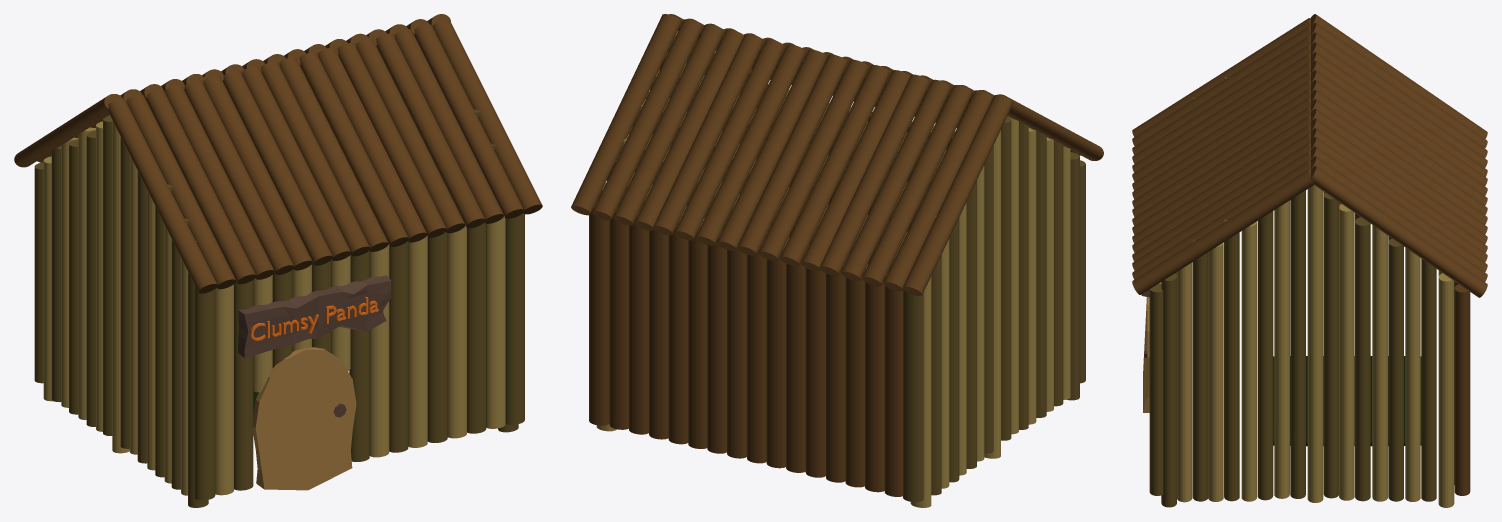
Rendered from house-only.fbx.
3 renders of one model, left to right at view 1: azimuth 30°, elevation 25°; view 2: azimuth 150°, elevation 25°; view 3: azimuth 270°, elevation 25°, orthographic. The views are drawn at different scales.
Parts seen in each view (by area): view 1: Cube.009; view 2: Cube.009; view 3: Cube.009.
Boxes of the visible parts, <box> form: Cube.009: <box>14,14,542,507</box>; Cube.009: <box>571,14,1103,507</box>; Cube.009: <box>1132,14,1487,507</box>.
Bounding box in the file's own units: 425 × 420 × 397.
